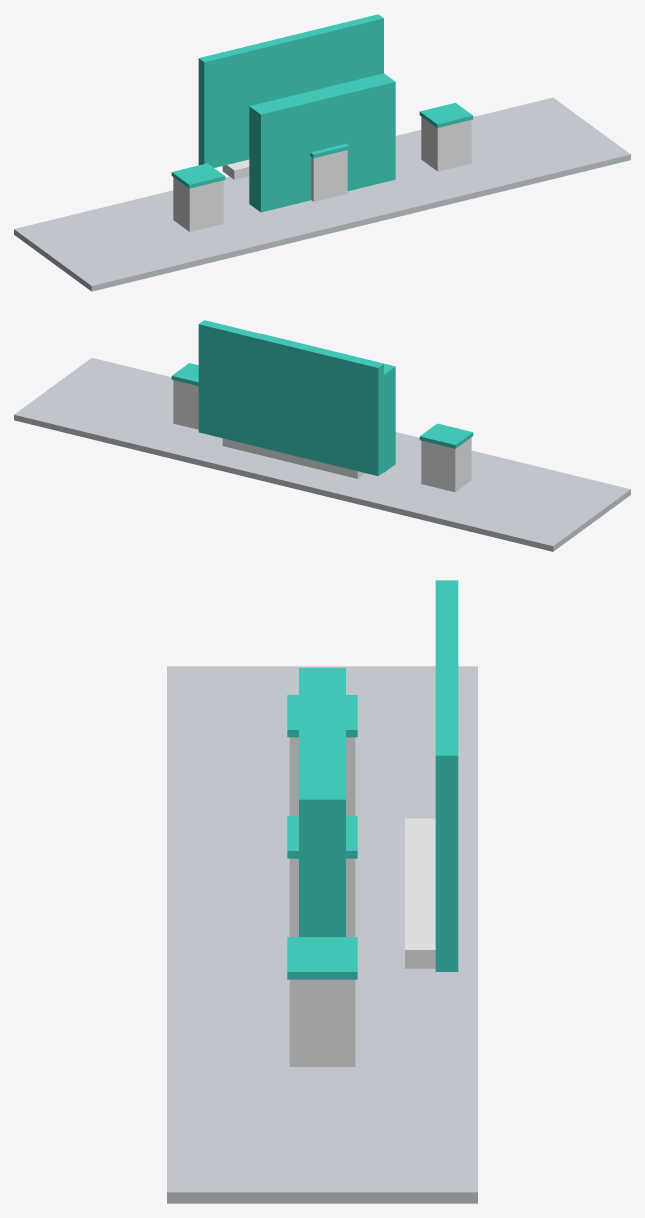
3 views of the same model, one above another, from view 1: azimuth 30°, elevation 25°; view 2: azimuth 150°, elevation 25°; view 3: azimuth 270°, elevation 25° (orthographic). The views are drawn at different scales.
Parts seen in each view (by area): view 1: Exhibition Booth Concept; view 2: Exhibition Booth Concept; view 3: Exhibition Booth Concept.
Part boxes in pixels (bbox=[...]): Exhibition Booth Concept: bbox=[14, 14, 630, 291]; Exhibition Booth Concept: bbox=[14, 320, 630, 551]; Exhibition Booth Concept: bbox=[167, 580, 477, 1203].
Size of the model in its own units: 12 by 2.9 by 3.
